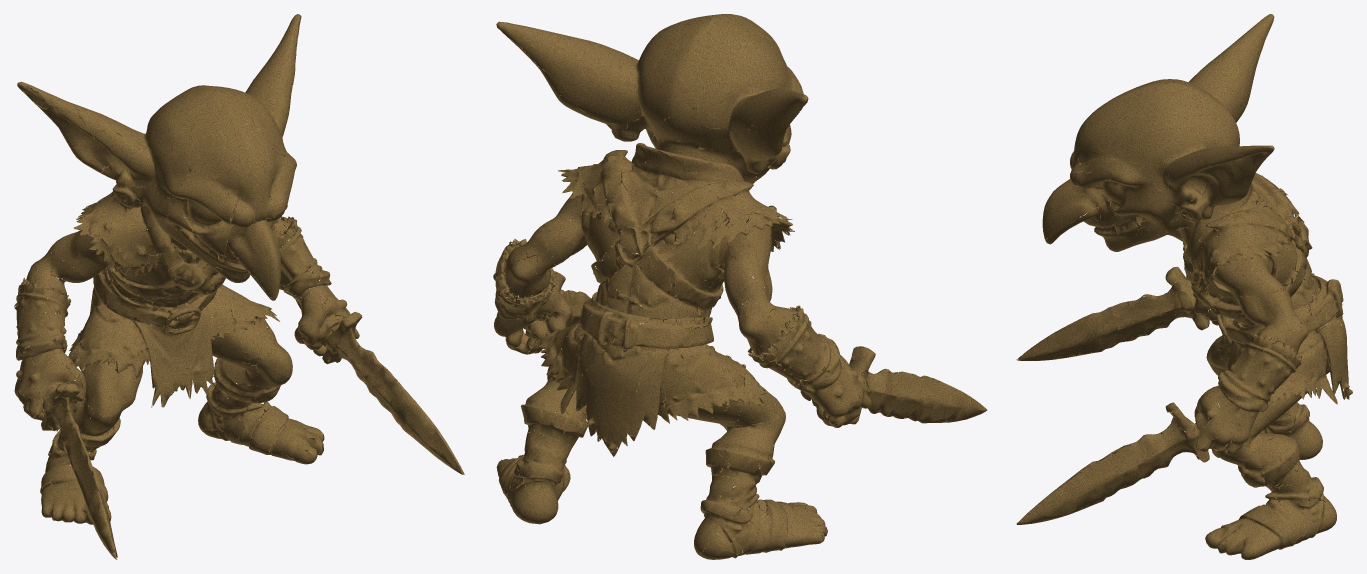
File: goblin-ottimizzato.glb
The picture shows the model from 3 angles, left to right: view 1: azimuth 30°, elevation 25°; view 2: azimuth 150°, elevation 25°; view 3: azimuth 270°, elevation 25°; orthographic projection. The views are drawn at different scales.
Size of the model in its own units: 1.65 by 1.9 by 1.42.
Materials: 1 (1 with a texture image).
